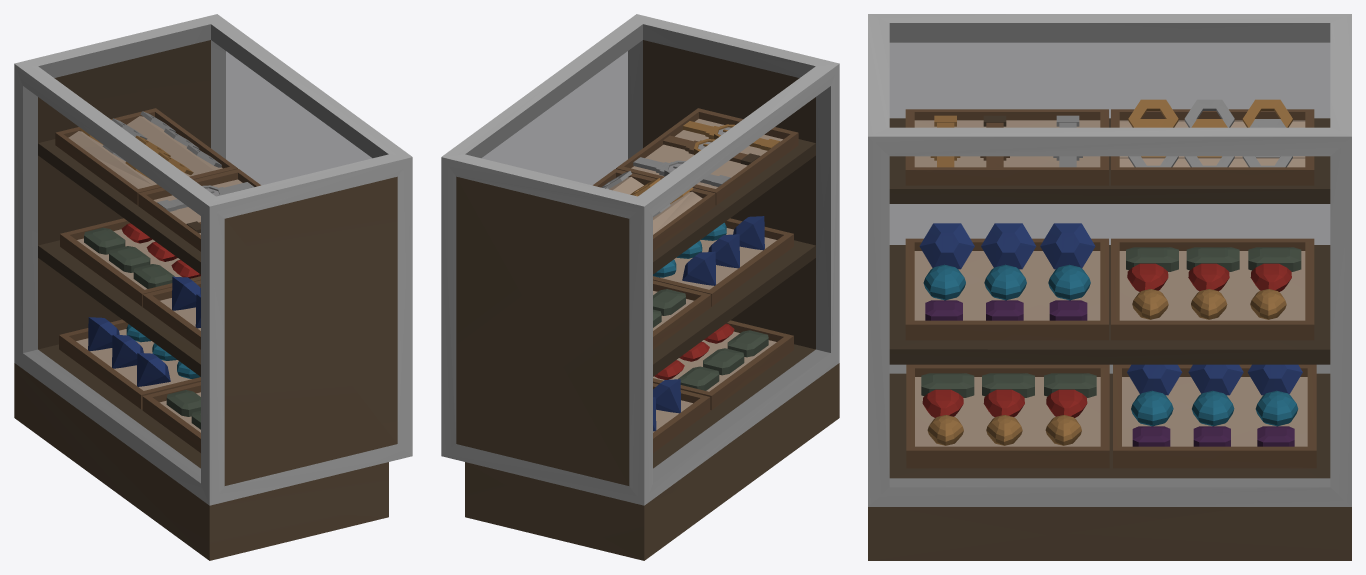
The model's file is SM_pawnShopCounter_01.glb.
3 views of the same model, side by side, from view 1: azimuth 30°, elevation 25°; view 2: azimuth 150°, elevation 25°; view 3: azimuth 270°, elevation 25° (orthographic). The views are drawn at different scales.
Visible parts, largest first — view 1: SM_pawnShopCounter_01; view 2: SM_pawnShopCounter_01; view 3: SM_pawnShopCounter_01.
Part boxes in pixels (box(x1,y1,x2,y2)): SM_pawnShopCounter_01: box(14, 14, 412, 560); SM_pawnShopCounter_01: box(441, 14, 839, 560); SM_pawnShopCounter_01: box(868, 14, 1351, 560).
Bounding box in the file's own units: 0.6 × 1 × 1.
Materials: 2 (1 with a texture image).
